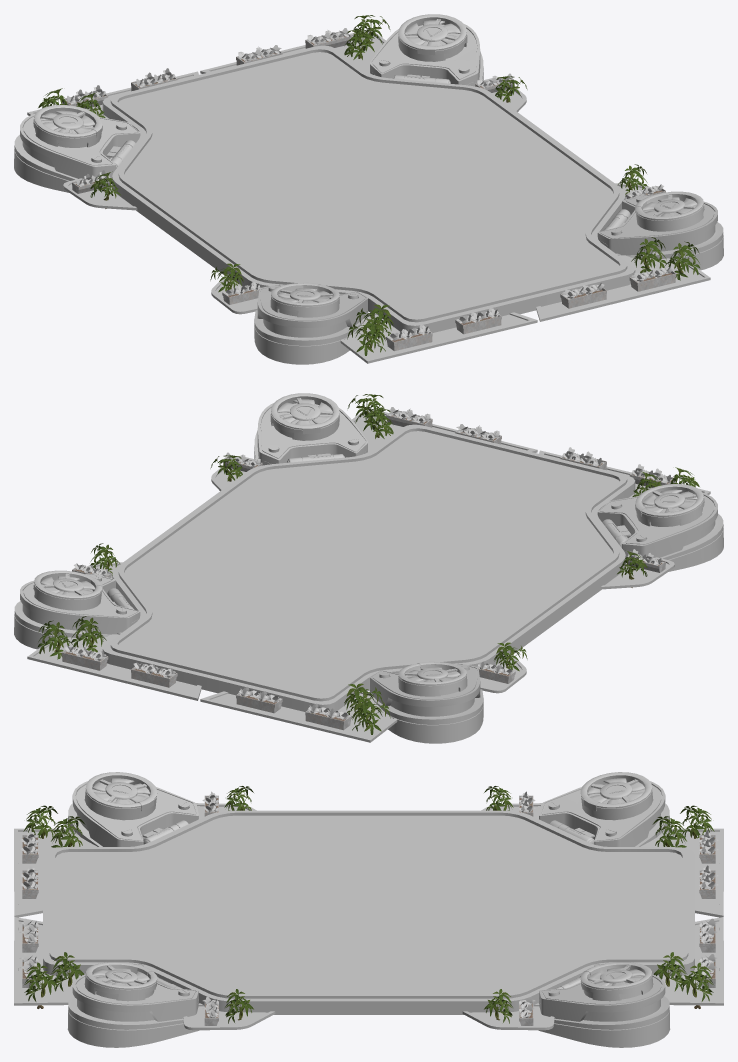
File: Up Env.fbx
The picture shows the model from 3 angles, top to bottom: view 1: azimuth 30°, elevation 25°; view 2: azimuth 150°, elevation 25°; view 3: azimuth 270°, elevation 25°; orthographic projection. The views are drawn at different scales.
Parts seen in each view (by area): view 1: BAck ground Floor, Plane.001, BAck ground floor.001, Money_Tree.003, BAck ground floor, Money_Tree.002, Money_Tree, FAn, FlowerBox_A.003, Flowerbox_A_Plants.001, FlowerBox_A.001, Flowerbox_A_Plants.003 (+2 smaller); view 2: BAck ground Floor, Plane.001, BAck ground floor.001, Money_Tree.003, BAck ground floor, Money_Tree.002, Money_Tree, FAn, FlowerBox_A.003, Flowerbox_A_Plants.001, FlowerBox_A.001, Flowerbox_A_Plants.003 (+2 smaller); view 3: BAck ground Floor, Plane.001, BAck ground floor.001, BAck ground floor, Money_Tree.003, Money_Tree.002, Money_Tree, FAn, Flowerbox_A_Plants.001, Flowerbox_A_Plants.003, FlowerBox_A.001, Flowerbox_A_Plants (+2 smaller).
Boxes of the visible parts, left/top/right/bottom form: BAck ground Floor: left=102, top=45, right=635, bottom=332; Plane.001: left=14, top=14, right=723, bottom=364; BAck ground floor.001: left=27, top=29, right=710, bottom=363; Money_Tree.003: left=38, top=15, right=700, bottom=355; BAck ground floor: left=63, top=78, right=650, bottom=314; Money_Tree.002: left=76, top=29, right=666, bottom=338; Money_Tree: left=90, top=76, right=647, bottom=292; FAn: left=40, top=20, right=697, bottom=303; FlowerBox_A.003: left=62, top=31, right=676, bottom=351; Flowerbox_A_Plants.001: left=133, top=45, right=604, bottom=323; FlowerBox_A.001: left=131, top=48, right=606, bottom=334; Flowerbox_A_Plants.003: left=65, top=28, right=673, bottom=340; BAck ground Floor: left=102, top=424, right=635, bottom=711; Plane.001: left=14, top=393, right=723, bottom=743; BAck ground floor.001: left=27, top=408, right=710, bottom=742; Money_Tree.003: left=37, top=394, right=699, bottom=734; BAck ground floor: left=87, top=457, right=674, bottom=693; Money_Tree.002: left=71, top=408, right=661, bottom=717; Money_Tree: left=90, top=455, right=647, bottom=671; FAn: left=40, top=399, right=697, bottom=682; FlowerBox_A.003: left=61, top=410, right=675, bottom=730; Flowerbox_A_Plants.001: left=133, top=424, right=604, bottom=702; FlowerBox_A.001: left=131, top=427, right=606, bottom=713; Flowerbox_A_Plants.003: left=64, top=407, right=672, bottom=719; BAck ground Floor: left=43, top=810, right=694, bottom=1014; Plane.001: left=67, top=772, right=670, bottom=1047; BAck ground floor.001: left=14, top=828, right=723, bottom=1005; BAck ground floor: left=183, top=803, right=554, bottom=1030; Money_Tree.003: left=23, top=805, right=714, bottom=1008; Money_Tree.002: left=51, top=816, right=686, bottom=991; Money_Tree: left=224, top=786, right=513, bottom=1023; FAn: left=92, top=778, right=645, bottom=985; Flowerbox_A_Plants.001: left=19, top=865, right=718, bottom=943; Flowerbox_A_Plants.003: left=19, top=830, right=718, bottom=978; FlowerBox_A.001: left=22, top=870, right=715, bottom=952; Flowerbox_A_Plants: left=202, top=791, right=535, bottom=1017.
Size of the model in its own units: 48.5 by 5.27 by 62.84.
